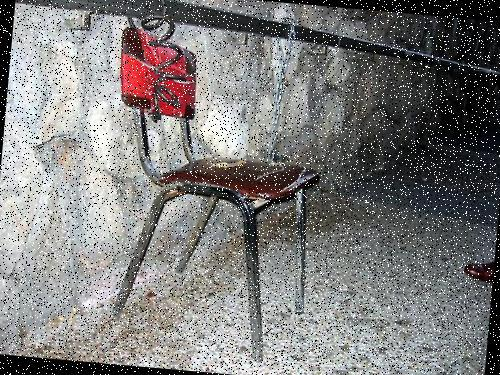Silla: (93, 23, 331, 366)
